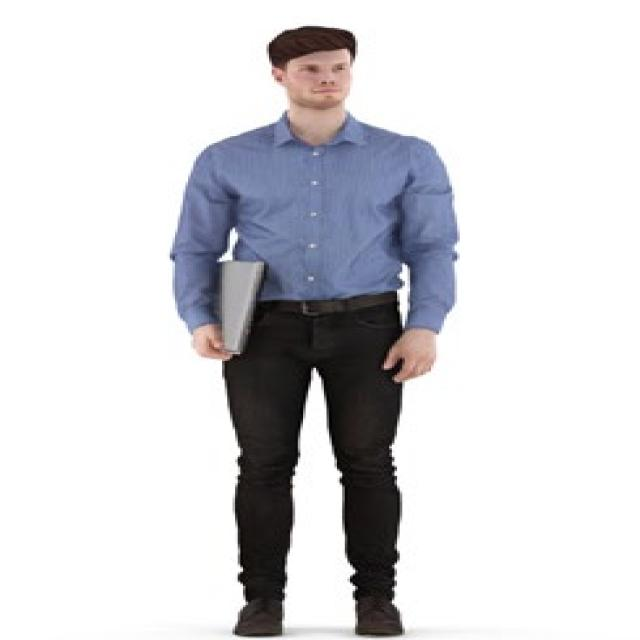standing: (163, 23, 462, 640)
